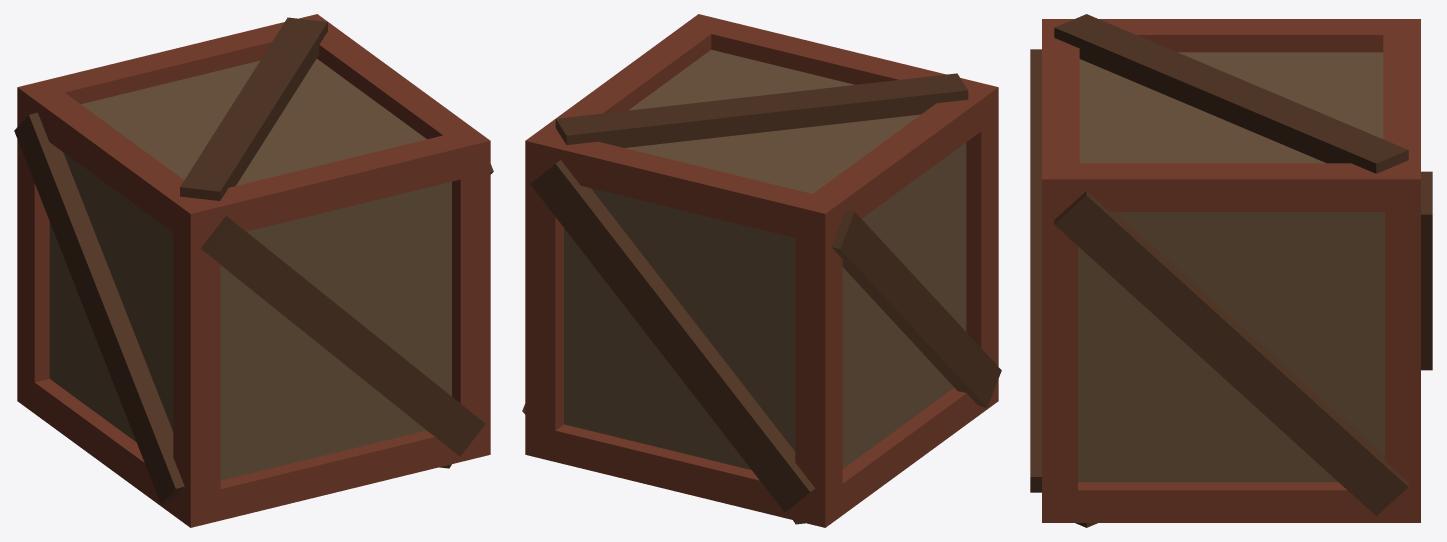
3 renders of one model, left to right at view 1: azimuth 30°, elevation 25°; view 2: azimuth 150°, elevation 25°; view 3: azimuth 270°, elevation 25°, orthographic. The views are drawn at different scales.
Visible parts, largest first — view 1: Cube; view 2: Cube; view 3: Cube.
Part boxes in pixels (x1,y1,x2,y2): Cube: (14, 14, 493, 527); Cube: (522, 14, 1001, 527); Cube: (1030, 14, 1432, 527).
Bounding box in the file's own units: 212 × 212 × 212.
